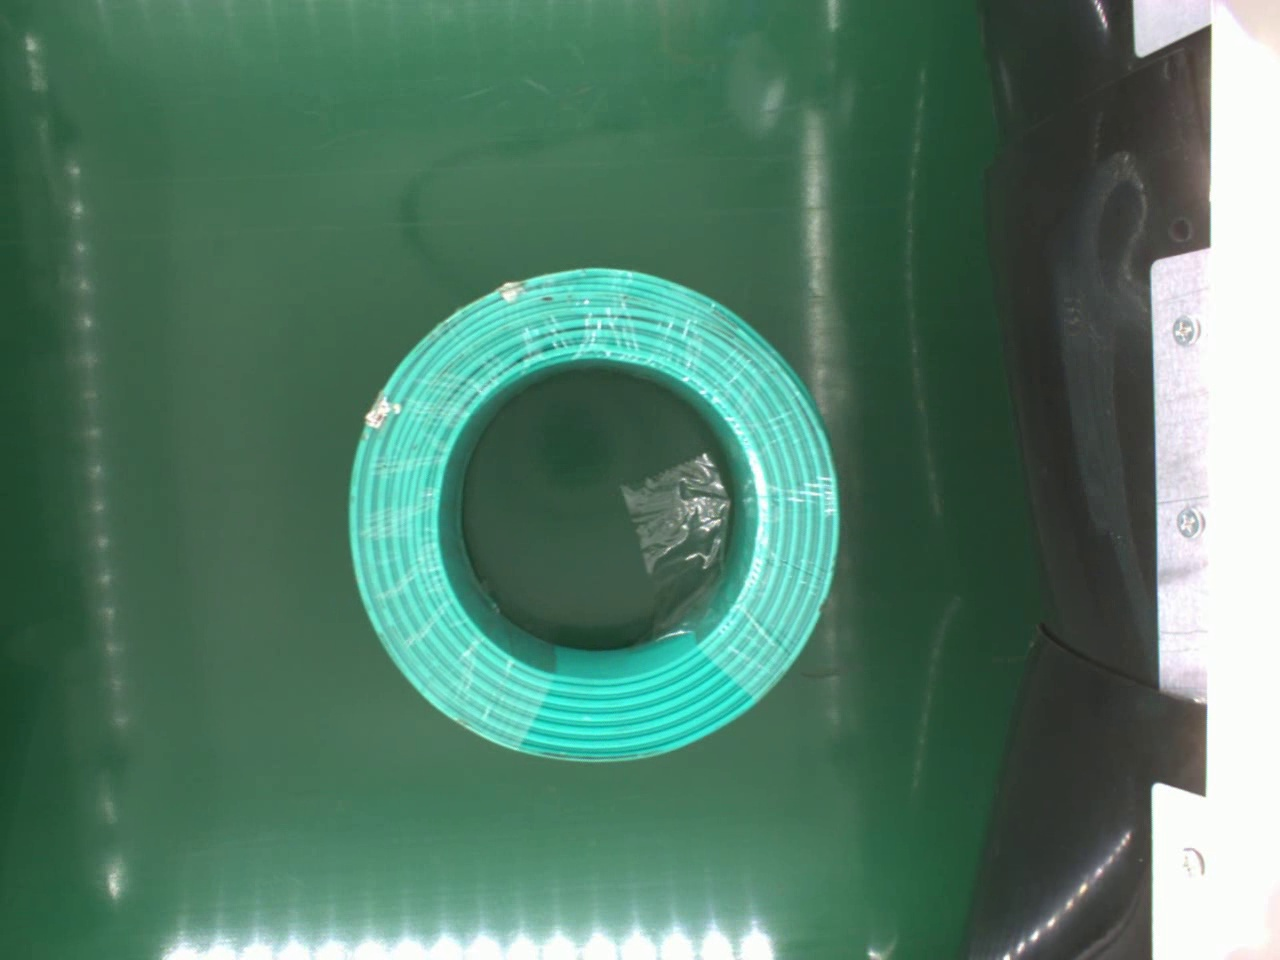green: (338, 260, 842, 774)
